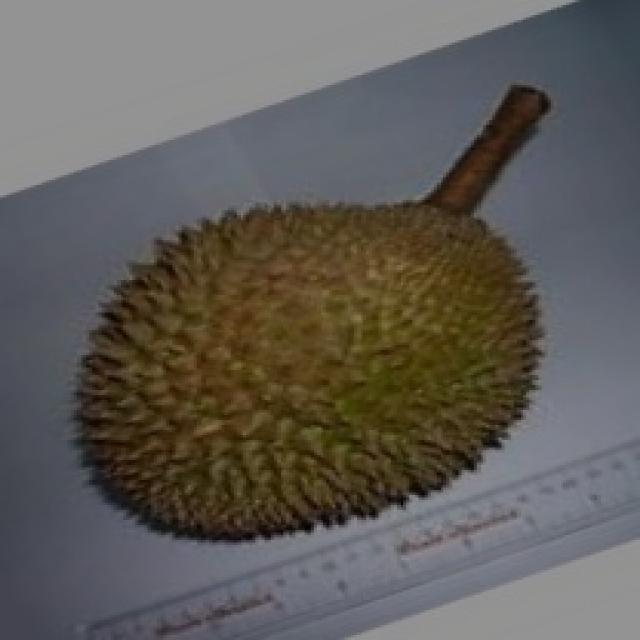fruit: (37, 173, 428, 585)
